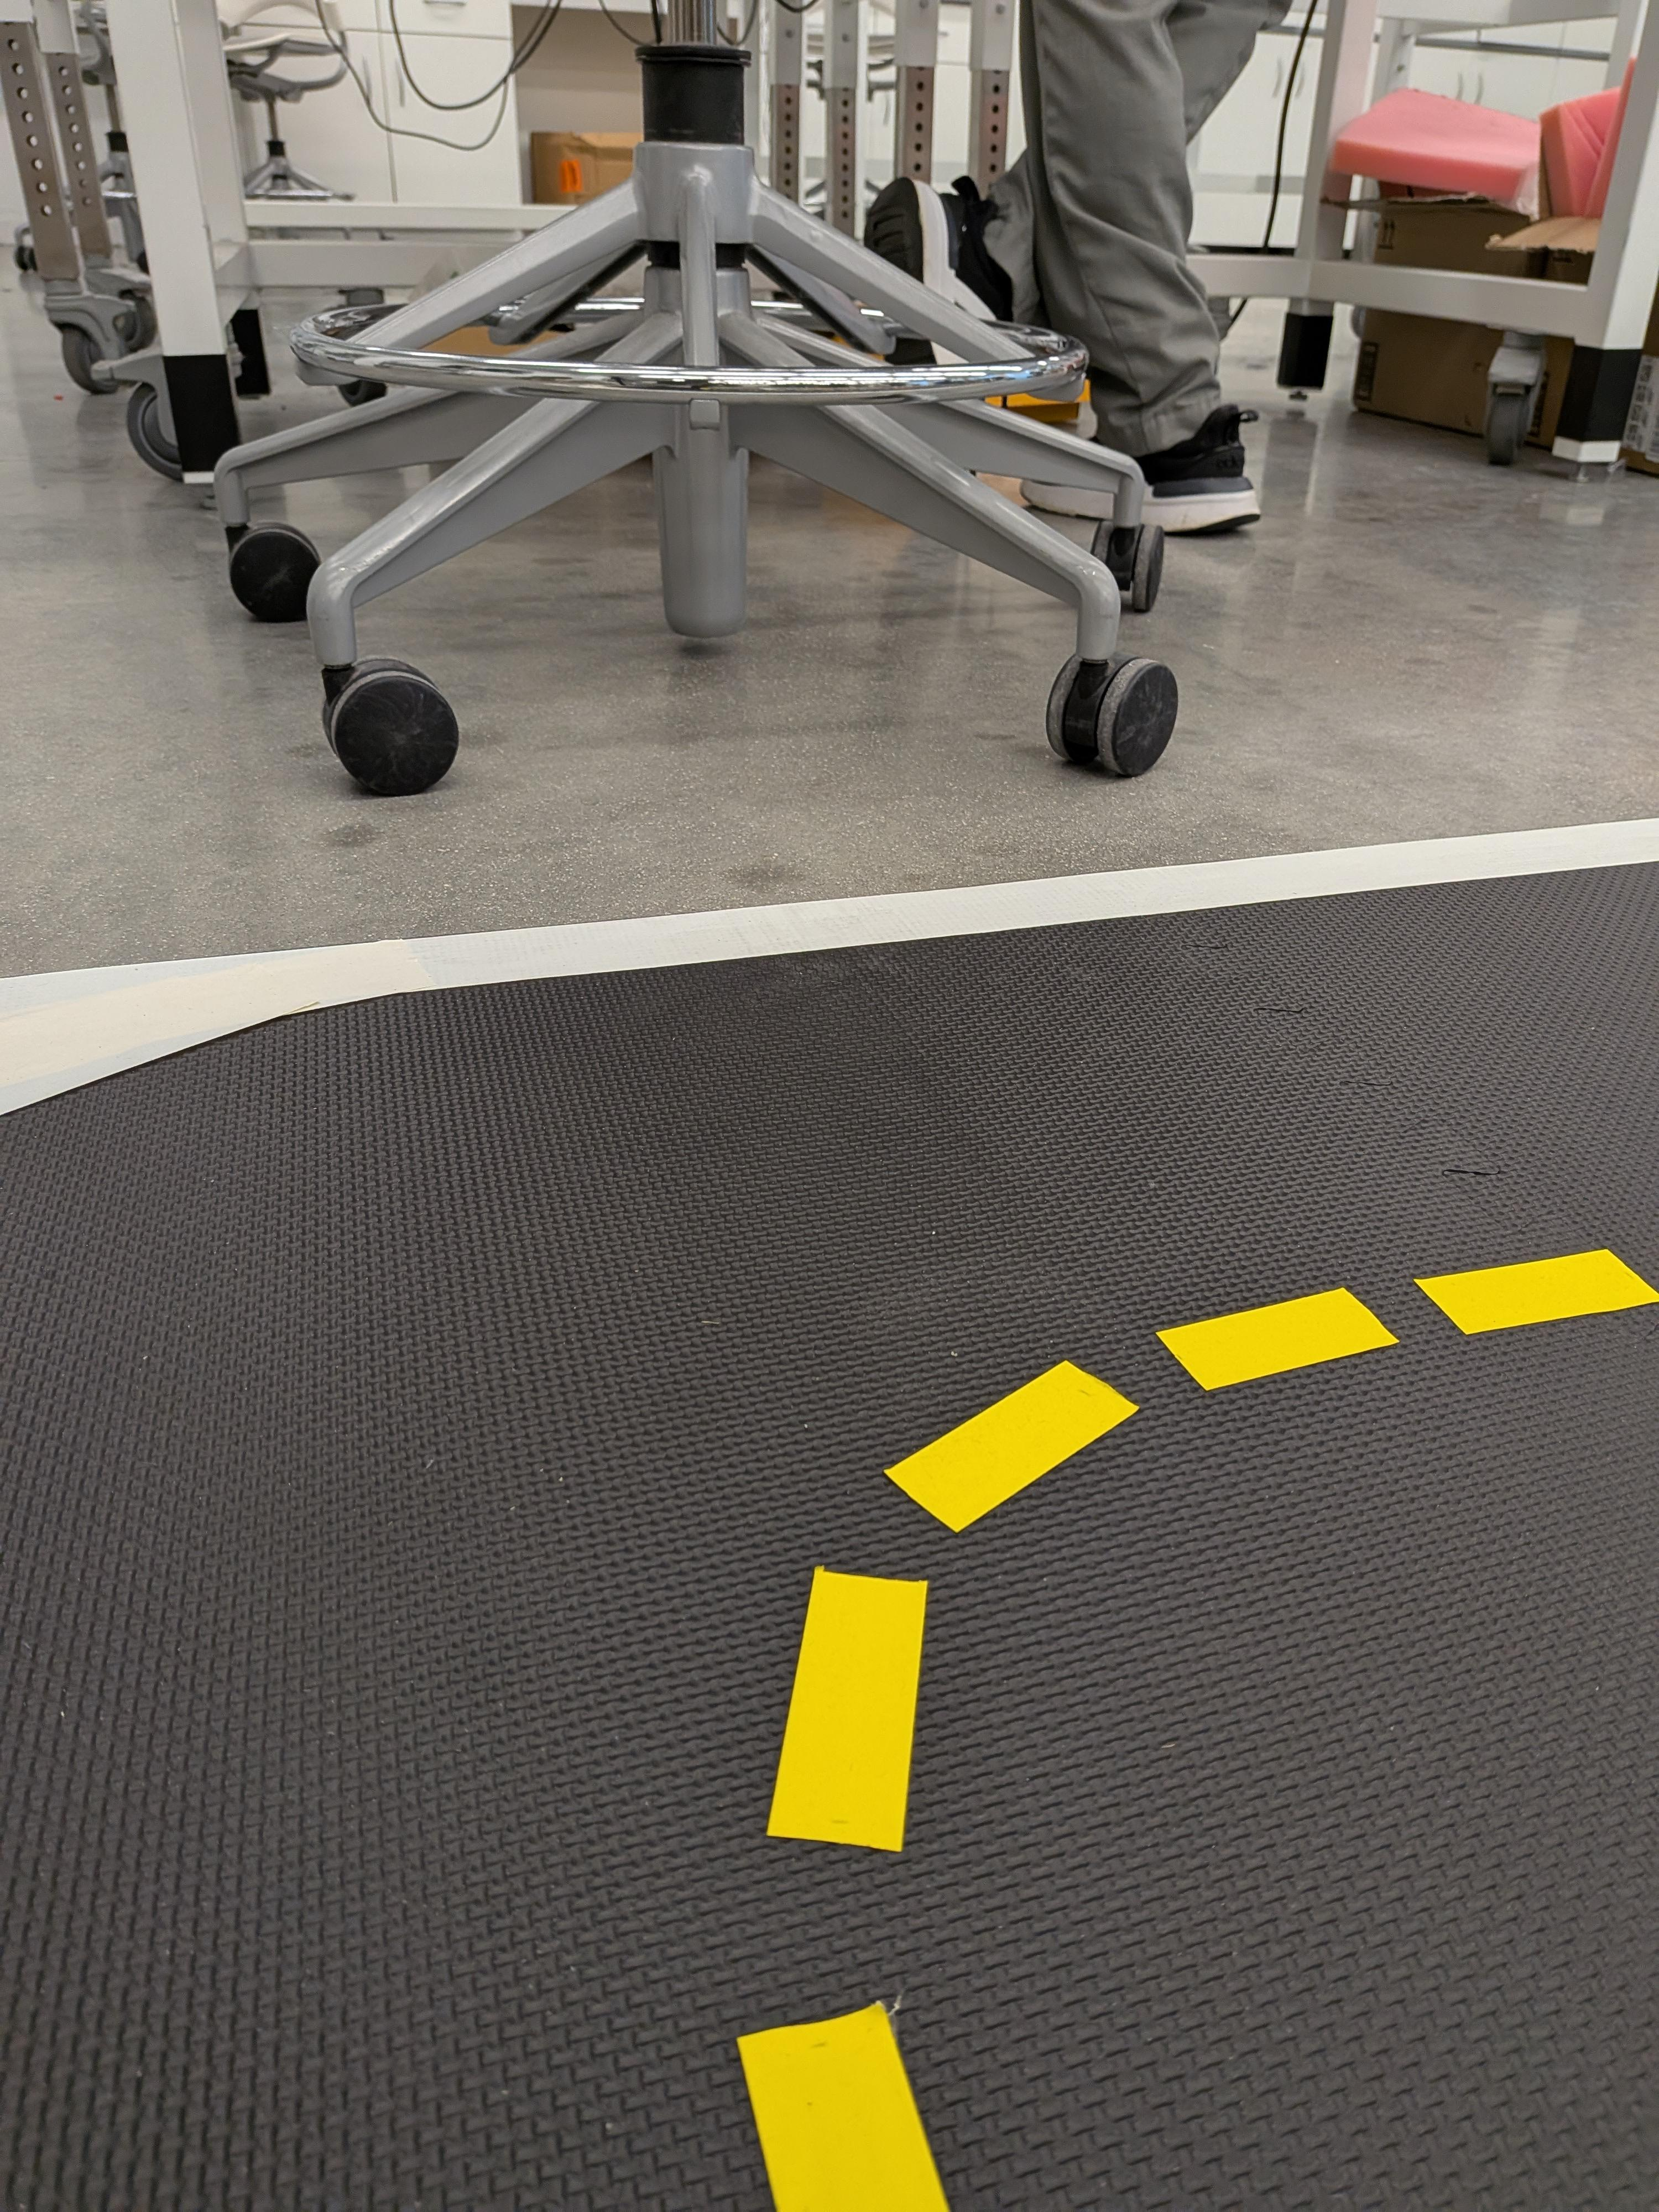whiteline: (0, 802, 1659, 1120)
yellowline: (888, 1244, 1658, 1537), (733, 1565, 954, 2211)
